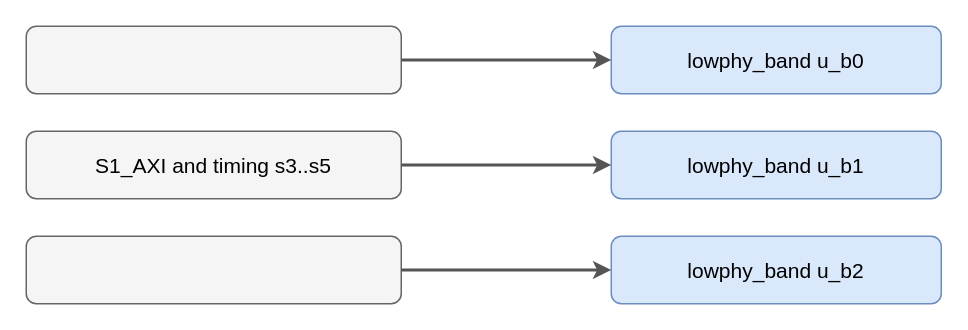
This 968x330 diagram has some shape labels left out. Each missing label, with the centre of its shape:
"S0_AXI and timing s0..s2" goes at (x=213, y=59).
"S2_AXI and timing s6..s8" goes at (x=213, y=269).
